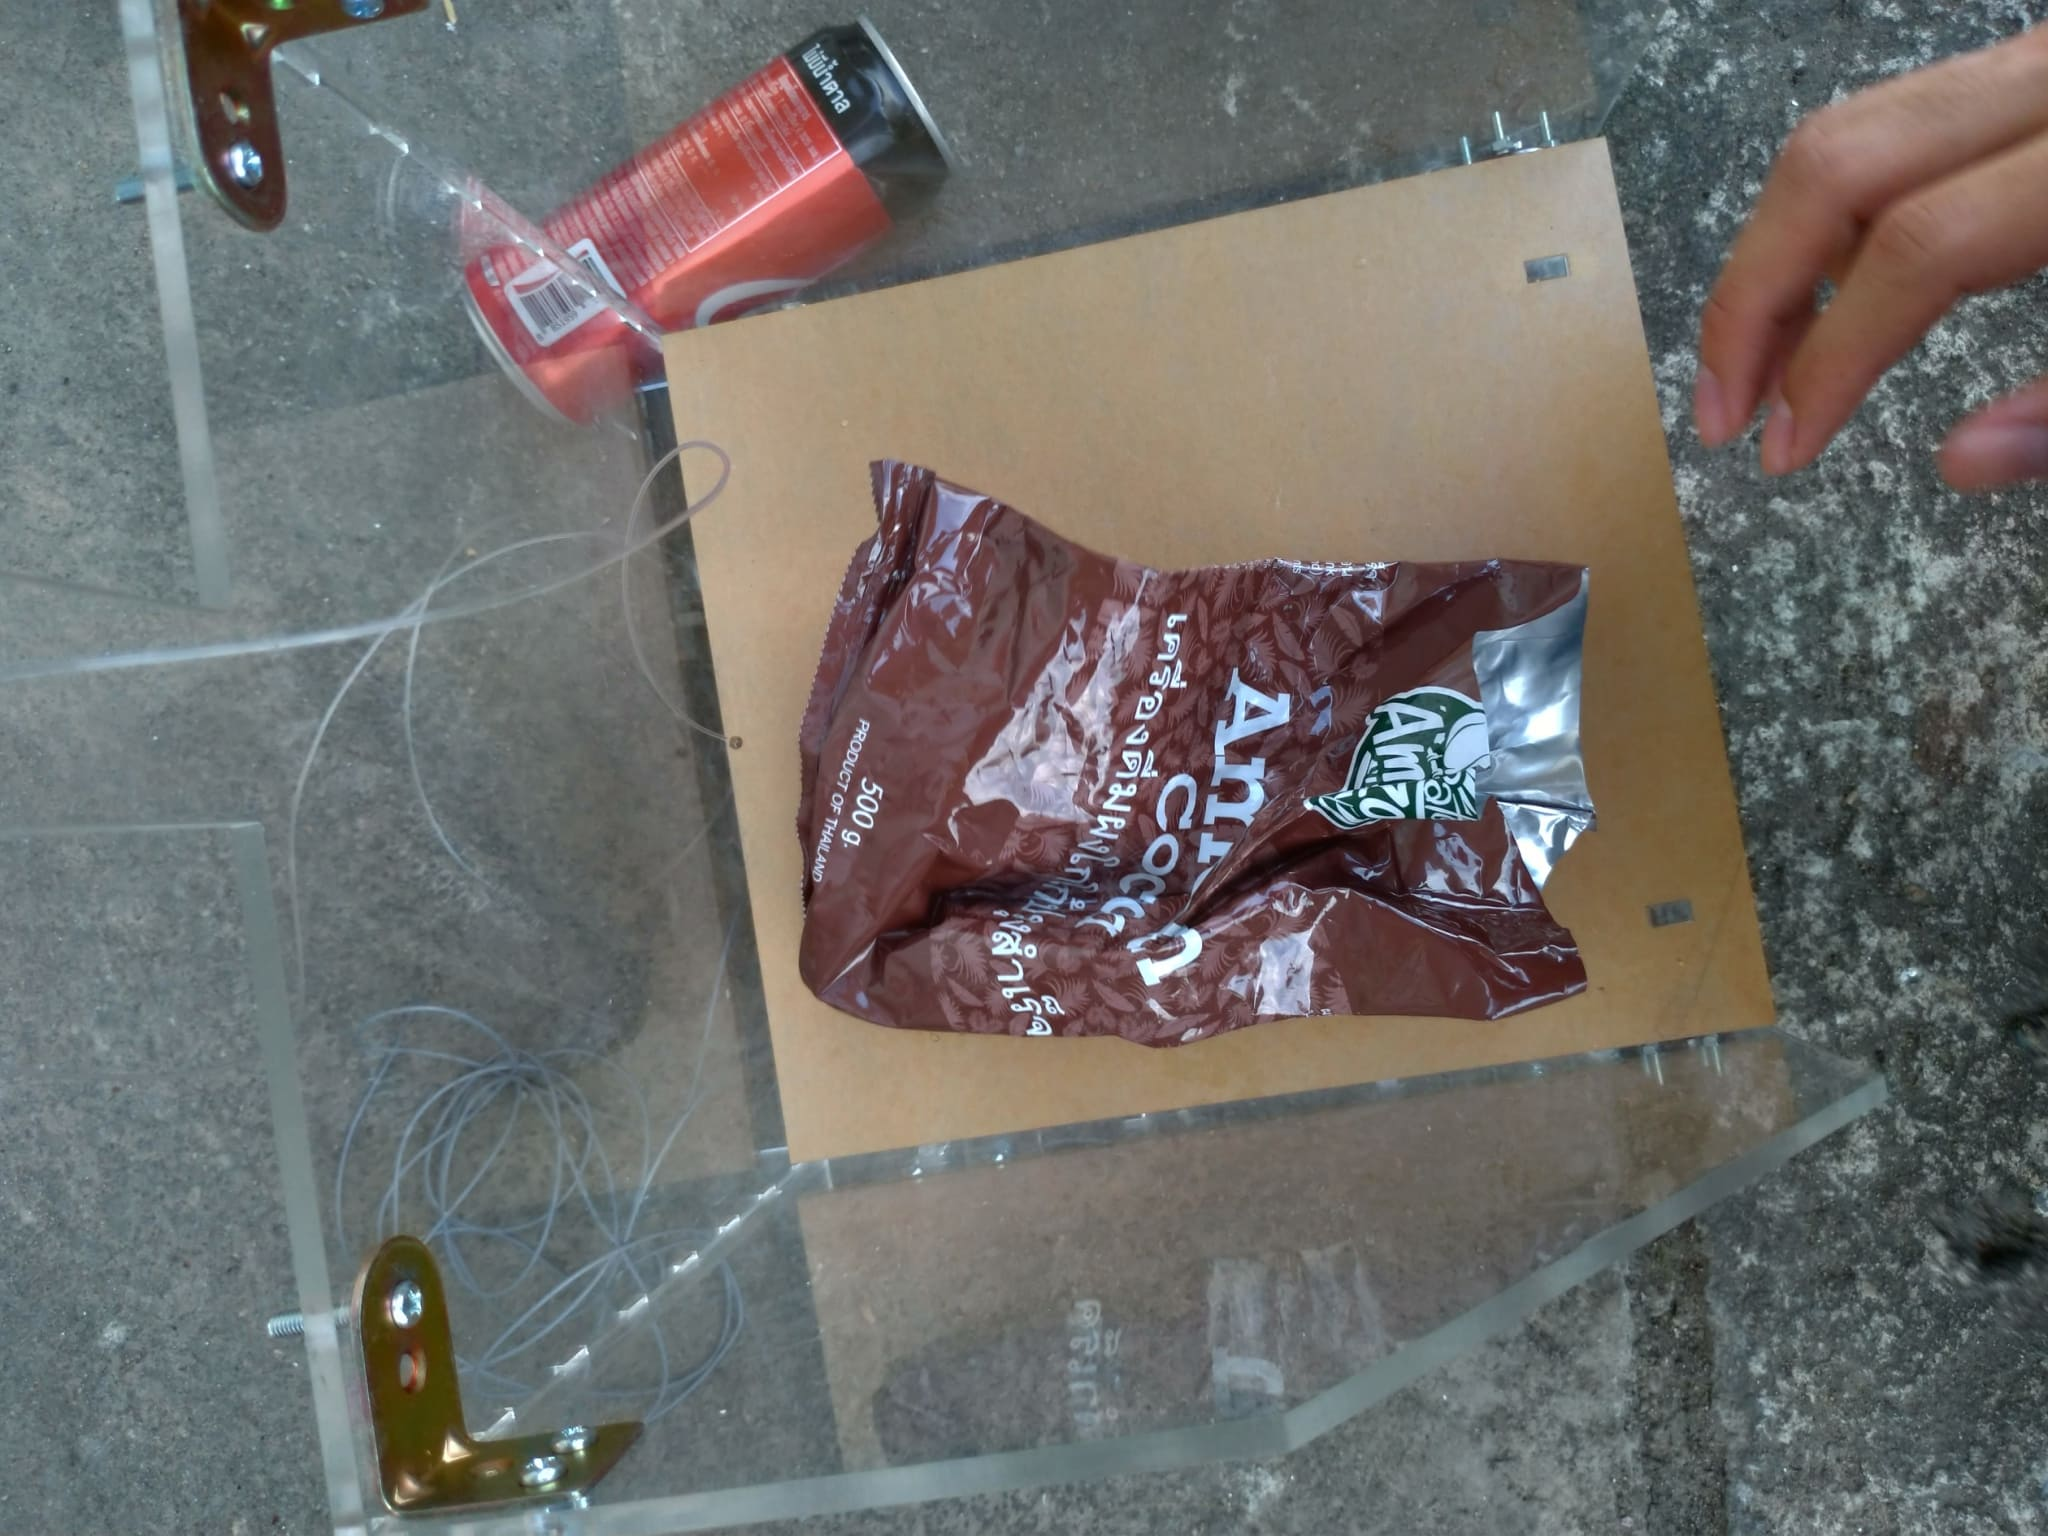AlCan: (448, 19, 963, 431)
Others: (795, 453, 1601, 1050)
